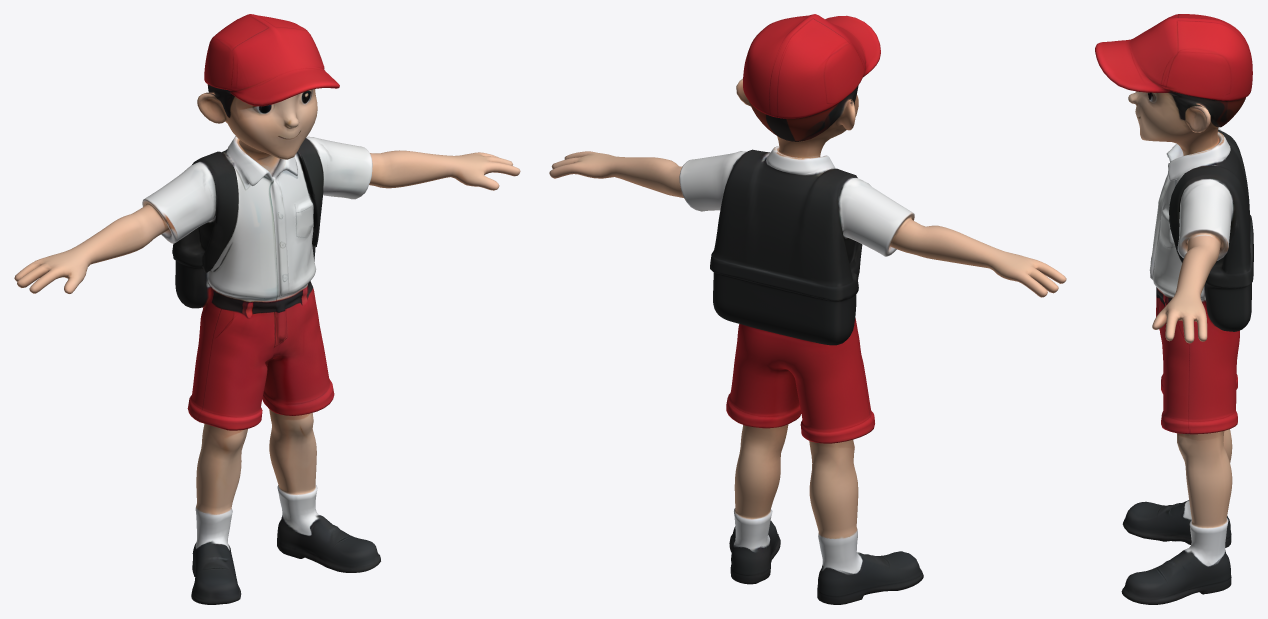
Rendered from npc_anak_sd.glb.
3 views of the same model, side by side, from view 1: azimuth 30°, elevation 25°; view 2: azimuth 150°, elevation 25°; view 3: azimuth 270°, elevation 25° (orthographic). The views are drawn at different scales.
Visible parts, largest first — view 1: model; view 2: model; view 3: model.
Part boxes in pixels (x1,y1,x2,y2): model: [14, 14, 520, 604]; model: [549, 14, 1066, 604]; model: [1095, 14, 1253, 604].
Size of the model in its own units: 1.66 by 1.75 by 0.4607.
1 material, 1 textured.
